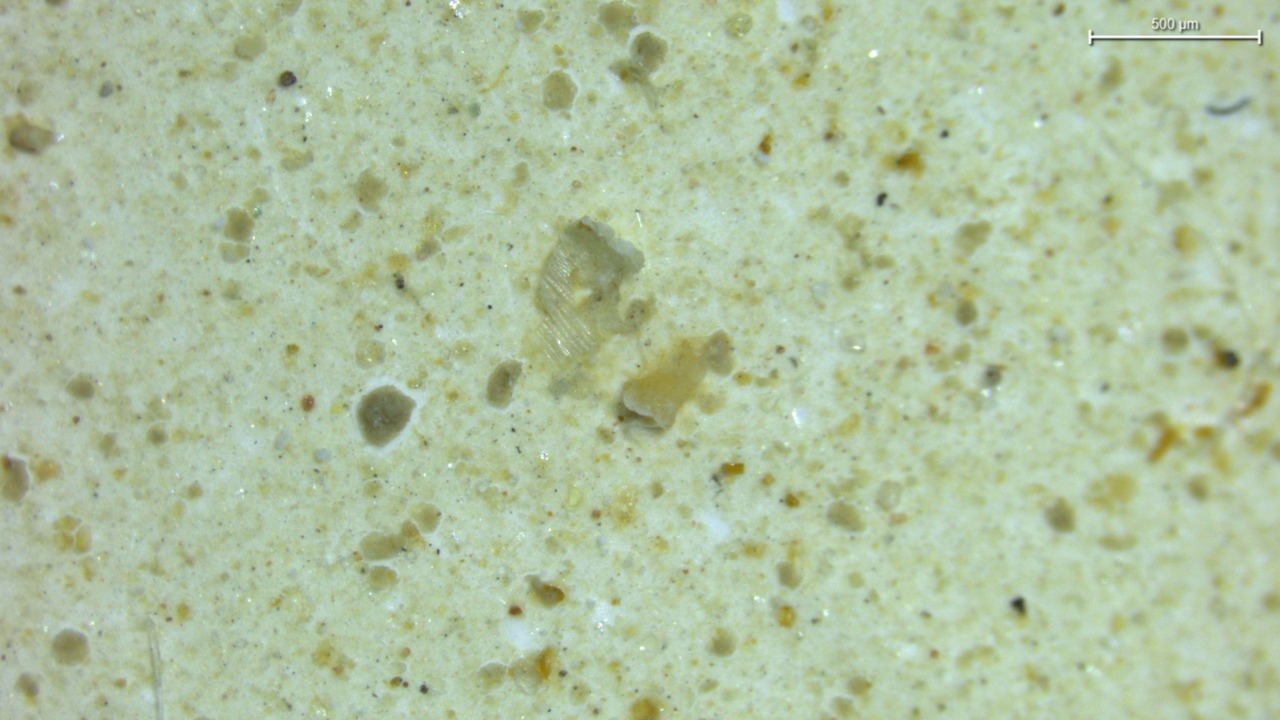microplastic_fragment: (536, 219, 644, 365), (622, 352, 705, 428)
